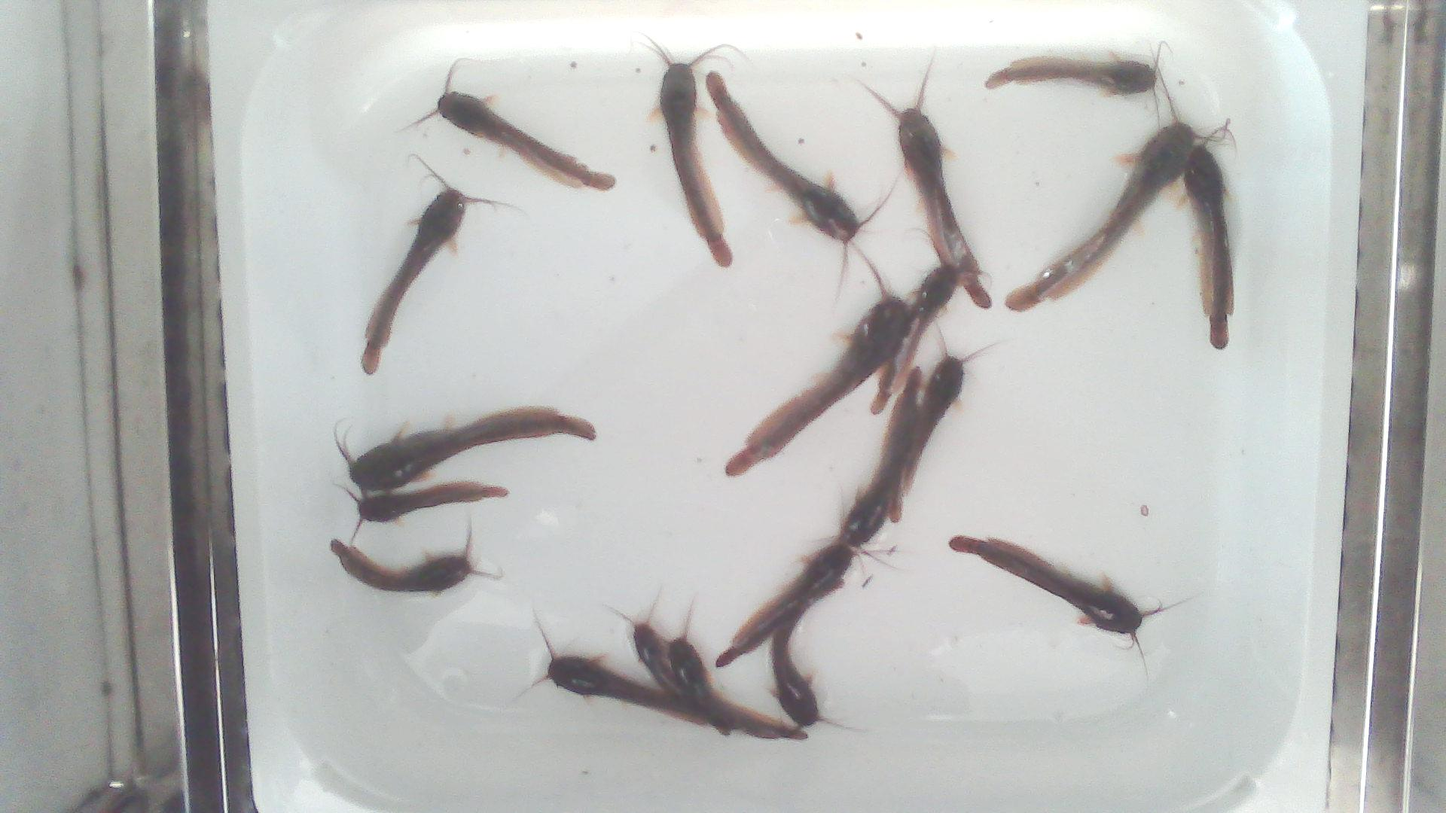lele: (723, 249, 911, 477), (1007, 89, 1195, 314), (706, 73, 890, 280), (867, 59, 991, 308), (948, 535, 1170, 667), (361, 157, 496, 374), (409, 63, 615, 190), (631, 32, 733, 266), (508, 612, 707, 727), (341, 406, 596, 494), (887, 331, 998, 522), (668, 599, 809, 741), (714, 541, 866, 670), (607, 589, 731, 738), (841, 365, 923, 549), (869, 263, 959, 415), (769, 578, 857, 731), (1180, 125, 1237, 355), (330, 523, 496, 592), (345, 482, 507, 534), (985, 54, 1159, 94)
